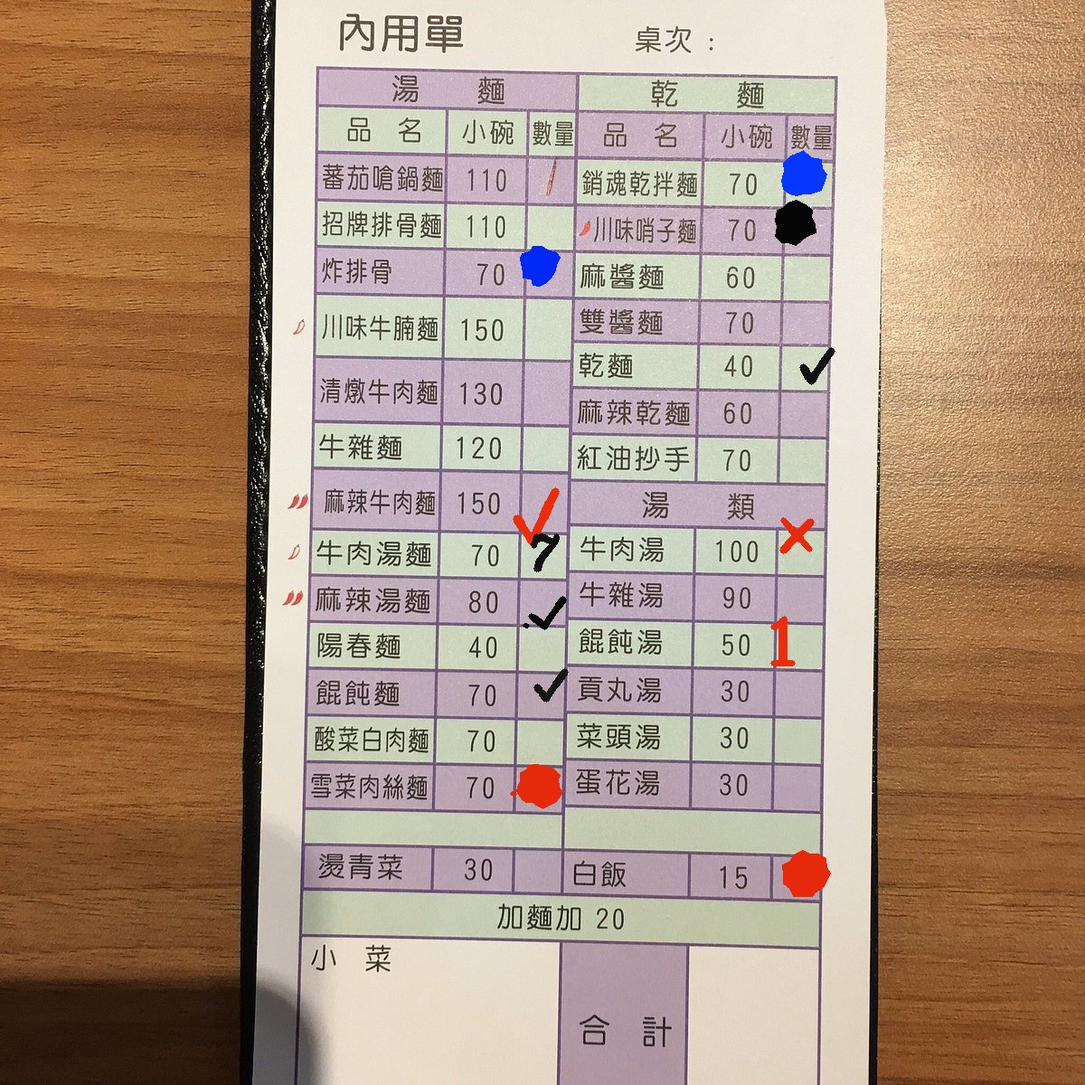marked_circle: (772, 854, 820, 901), (786, 159, 834, 205), (514, 762, 562, 808), (782, 206, 830, 252), (525, 251, 573, 297)
marked_number_1: (775, 623, 823, 669)
marked_number_7: (519, 532, 567, 578)
marked_tick: (519, 470, 565, 533), (780, 344, 828, 391), (517, 580, 565, 626), (517, 670, 565, 716)
marked_x: (777, 529, 825, 575)
